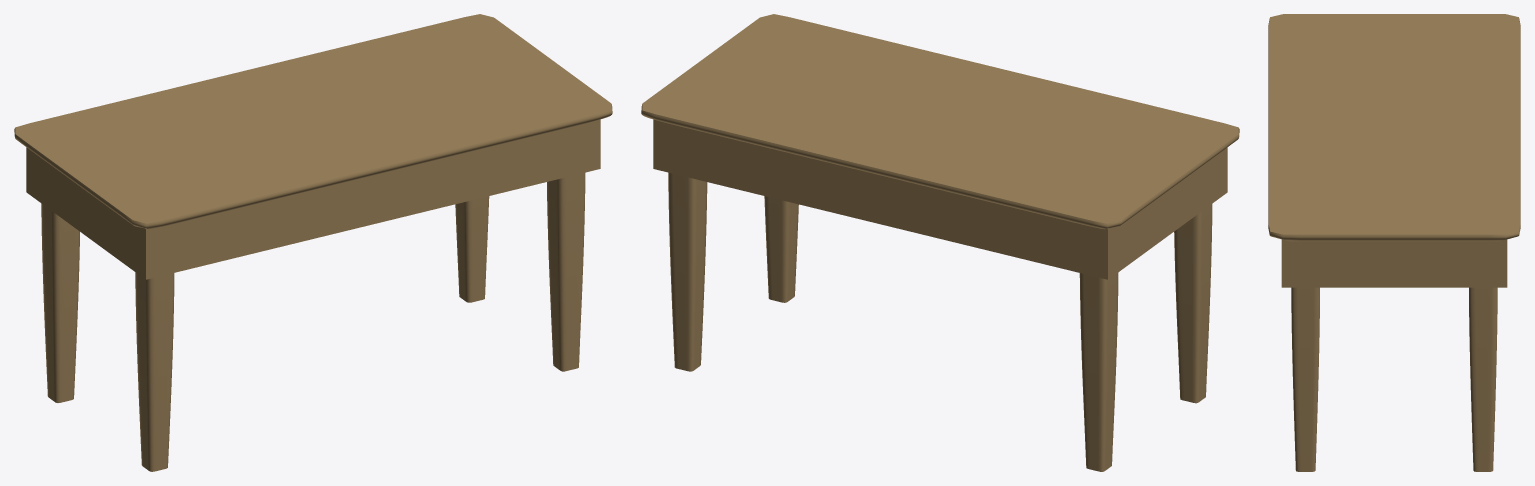
Rendered from piano_bench__10332493b3a6.glb.
3 renders of one model, left to right at view 1: azimuth 30°, elevation 25°; view 2: azimuth 150°, elevation 25°; view 3: azimuth 270°, elevation 25°, orthographic. The views are drawn at different scales.
Parts seen in each view (by area): view 1: top, rails, leg, leg.001, leg.002, leg.003; view 2: top, rails, leg.003, leg.002, leg, leg.001; view 3: top, rails, leg.003, leg.001.
Part boxes in pixels (<box>): top: <box>14,14,612,229</box>; rails: <box>26,119,600,279</box>; leg: <box>135,272,174,471</box>; leg.001: <box>547,172,585,371</box>; leg.002: <box>41,203,79,402</box>; leg.003: <box>455,196,489,302</box>; top: <box>641,14,1239,229</box>; rails: <box>653,119,1227,279</box>; leg.003: <box>668,172,707,371</box>; leg.002: <box>1079,272,1118,471</box>; leg: <box>1174,204,1212,403</box>; leg.001: <box>764,196,798,302</box>; top: <box>1268,14,1520,241</box>; rails: <box>1281,239,1507,287</box>; leg.003: <box>1469,287,1497,471</box>; leg.001: <box>1291,287,1319,471</box>.
Bounding box in the file's own units: 0.9018 × 0.4726 × 0.4351.
